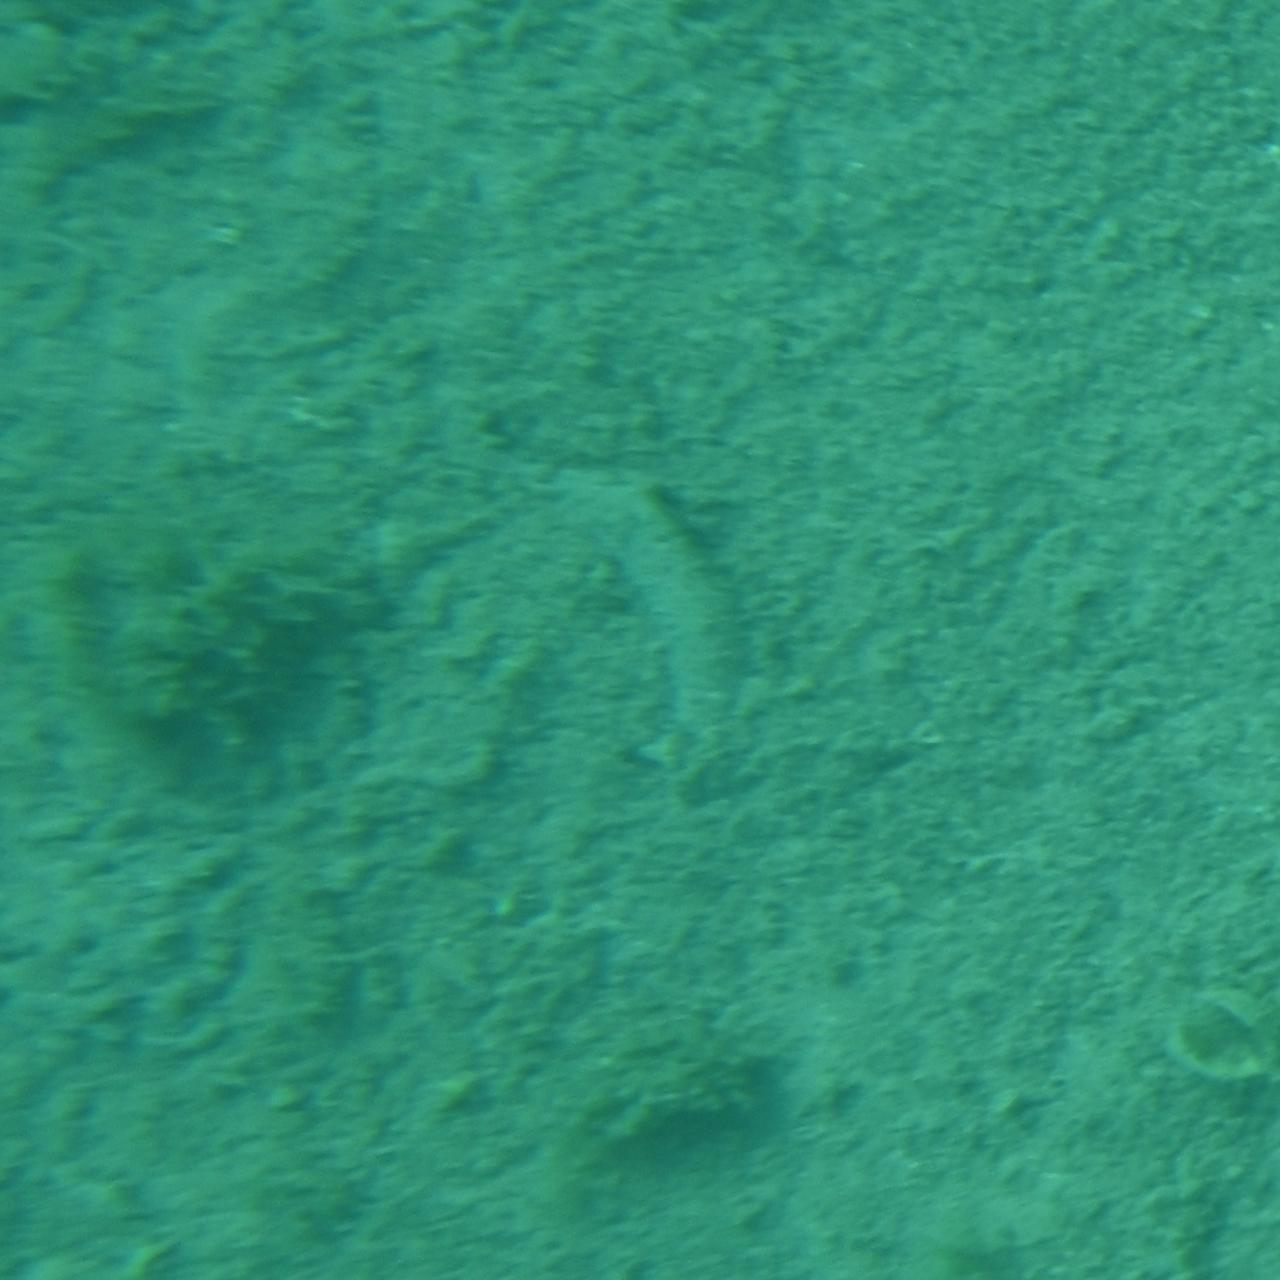Holothuria tubulosa: (529, 447, 751, 833)
